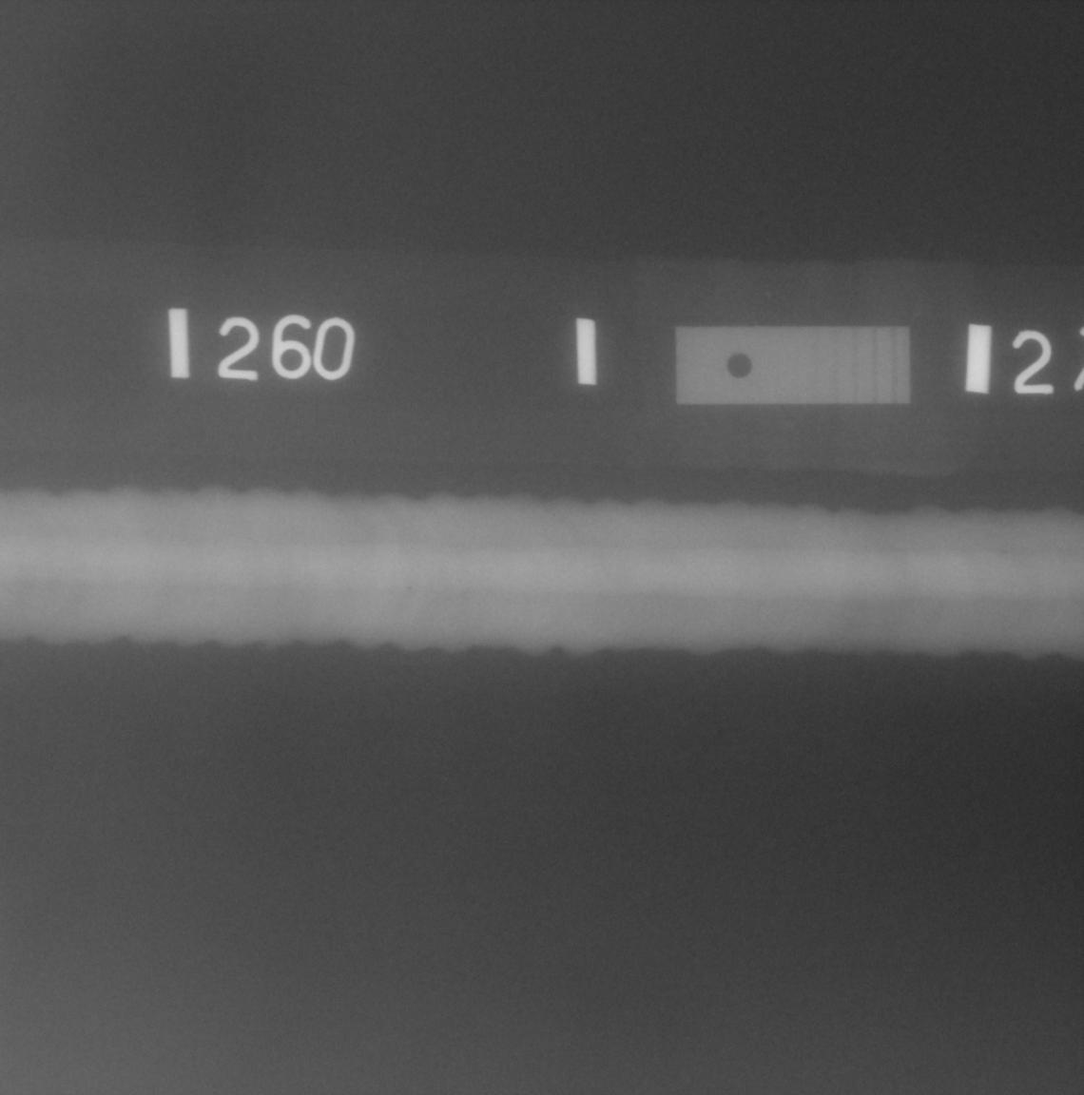Pore/Porosity: (407, 586, 412, 591)
Reference Standard 1: (675, 326, 910, 404)
